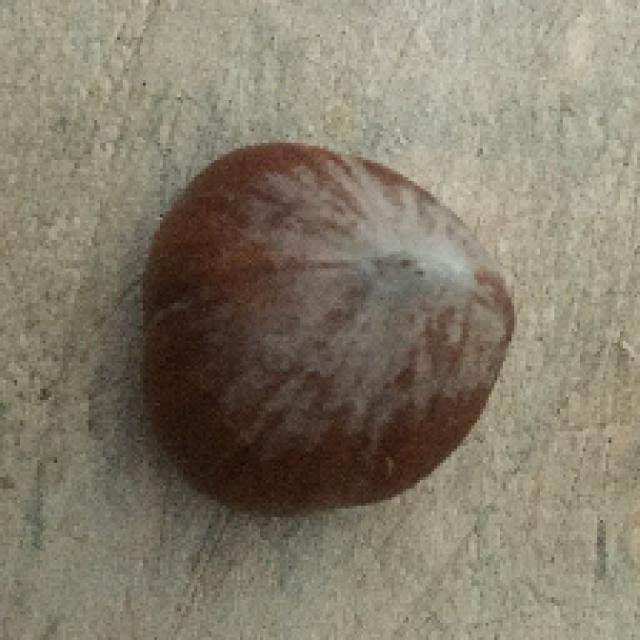qualityHazelnut: (142, 146, 509, 518)
